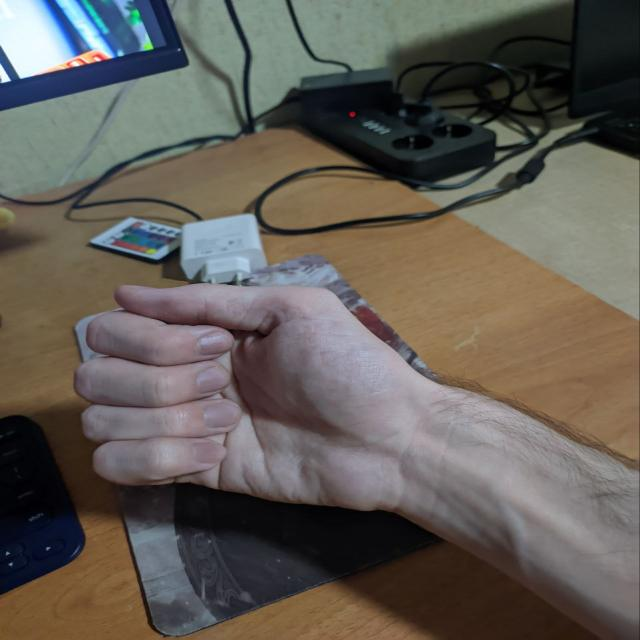a: (71, 282, 417, 512)
